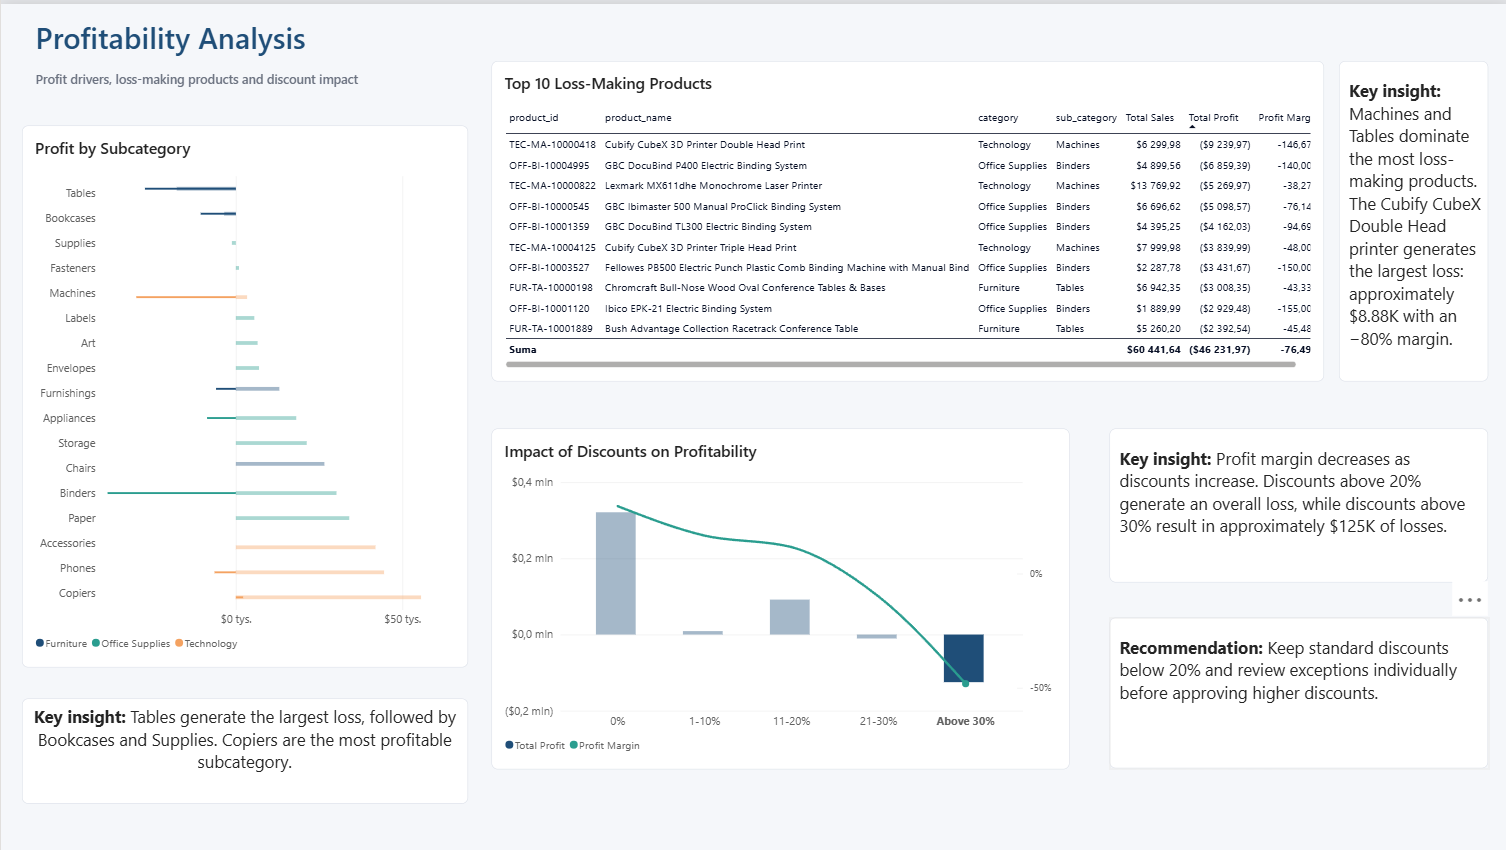

What the dashboard file says about the page in this screenshot:
{"tool":"powerbi","page":{"name":"Profitability Analysis","canvas":[1920,1080],"ordinal":1},"visuals":[{"type":"clusteredBarChart","title":"Profit by Subcategory","fields":{"Category":["orders.sub_category"],"Series":["orders.category"],"Y":["_Measures.Total Profit"]},"box":[26,154,568,690],"z":0},{"type":"lineClusteredColumnComboChart","title":"Impact of Discounts on Profitability","fields":{"Category":["orders.Discount Band"],"Y":["_Measures.Total Profit"],"Y2":["_Measures.Profit Margin"]},"box":[624,540,736,434],"z":1000},{"type":"tableEx","title":"Top 10 Loss-Making Products","fields":{"Values":["orders.product_id","orders.product_name","orders.category","orders.sub_category","_Measures.Total Sales","_Measures.Total Profit","_Measures.Profit Margin"]},"box":[624.5,72.6,1044.7,408.7],"z":2000},{"type":"textbox","box":[44,18,438,106],"z":3000},{"type":"textbox","box":[26,884,568,134],"z":4000},{"type":"textbox","box":[1694,72.6,200.5,406.8],"z":5000},{"type":"textbox","box":[1412,540,482,196],"z":6000},{"type":"textbox","box":[1412,782,482,192],"z":7000}]}

Visuals, with their boxes in screenshot pixels (x1, y1, x2, y2), scaled from the page's 1920x1080 canvas onto the 1506x850 screenshot:
"Profit by Subcategory" clusteredBarChart: box=[20, 121, 466, 664]
"Impact of Discounts on Profitability" lineClusteredColumnComboChart: box=[489, 425, 1067, 767]
"Top 10 Loss-Making Products" tableEx: box=[490, 57, 1309, 379]
textbox: box=[35, 14, 378, 98]
textbox: box=[20, 696, 466, 801]
textbox: box=[1329, 57, 1486, 377]
textbox: box=[1108, 425, 1486, 579]
textbox: box=[1108, 615, 1486, 767]
